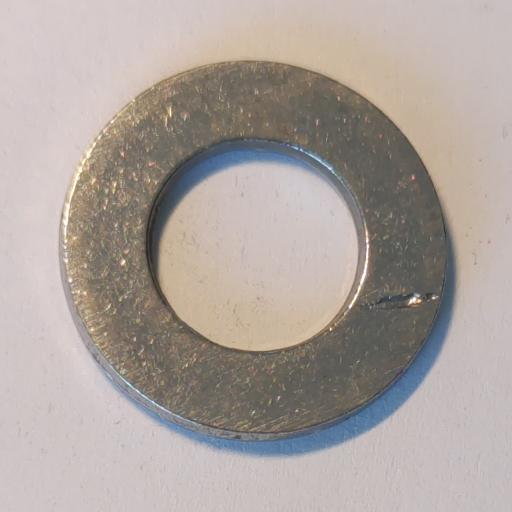scratch: (361, 293, 440, 312)
